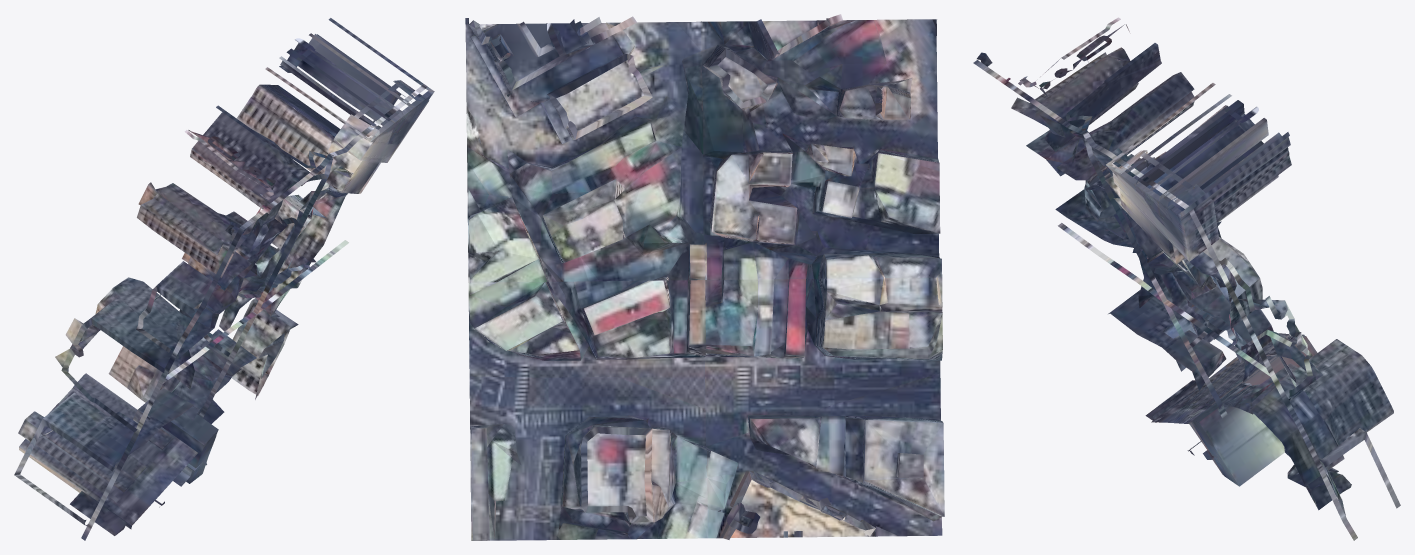
3 views of the same model, side by side, from view 1: azimuth 30°, elevation 25°; view 2: azimuth 150°, elevation 25°; view 3: azimuth 270°, elevation 25° (orthographic). The views are drawn at different scales.
Bounding box in the file's own units: 169 × 162 × 144.
2 materials, 2 textured.
